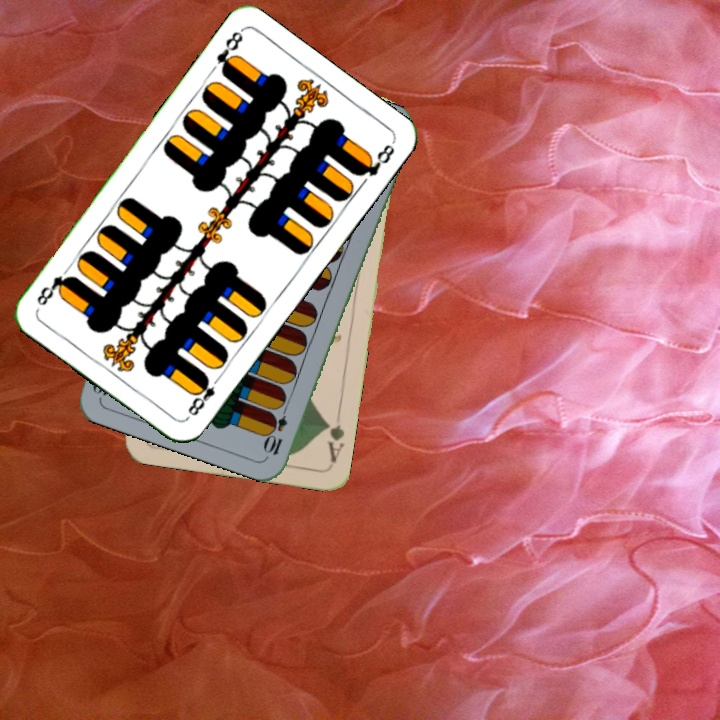E10: (262, 399, 291, 458)
E8: (182, 371, 224, 422), (212, 26, 246, 78)
GA: (321, 407, 347, 465)
